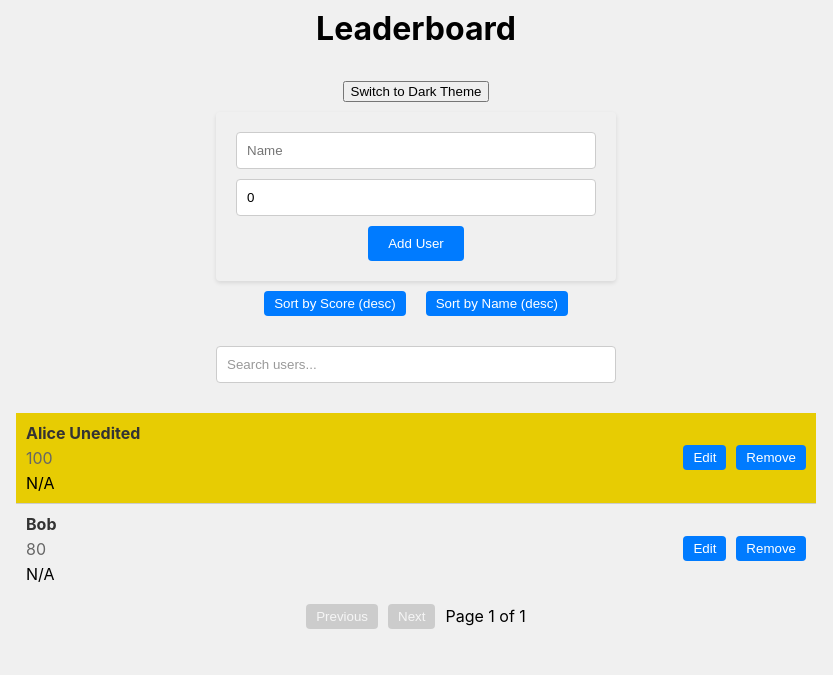
Scenario: Leaderboard Page › edits a user
(page scrolled)
Click the button with test id "edit-btn-1". click: click(705, 458)
box: top-left (683, 445), bottom-right (726, 470)
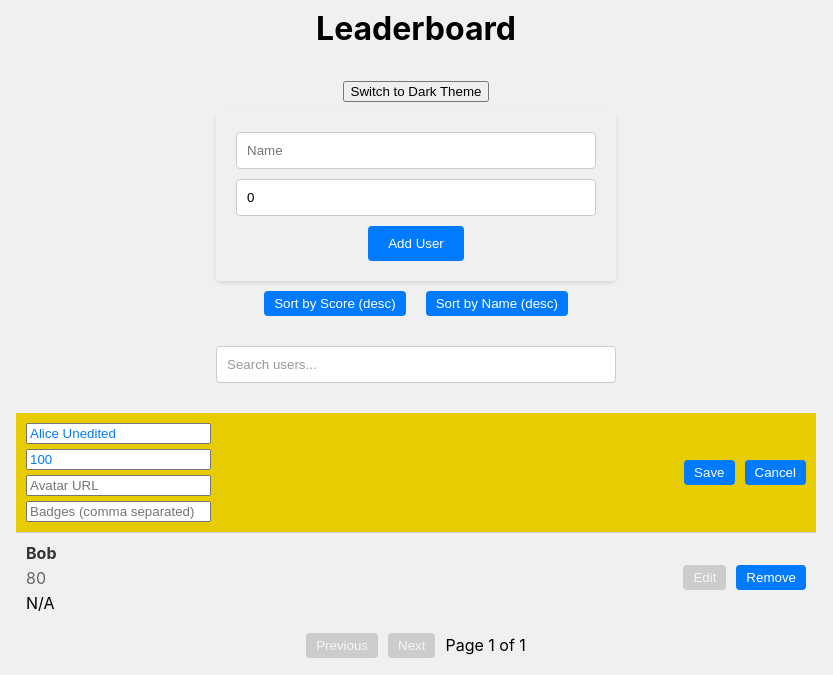
Now the field with test id "edit-user-name-1" holds "Alice Unedited"
Now the number field with test id "edit-user-score-1" holds "100", box top-left (26, 449), bottom-right (211, 470)
Replace the text in the field with test id "edit-user-name-1" with "Alice Updated". click: (118, 433)
box: top-left (26, 423), bottom-right (211, 444)
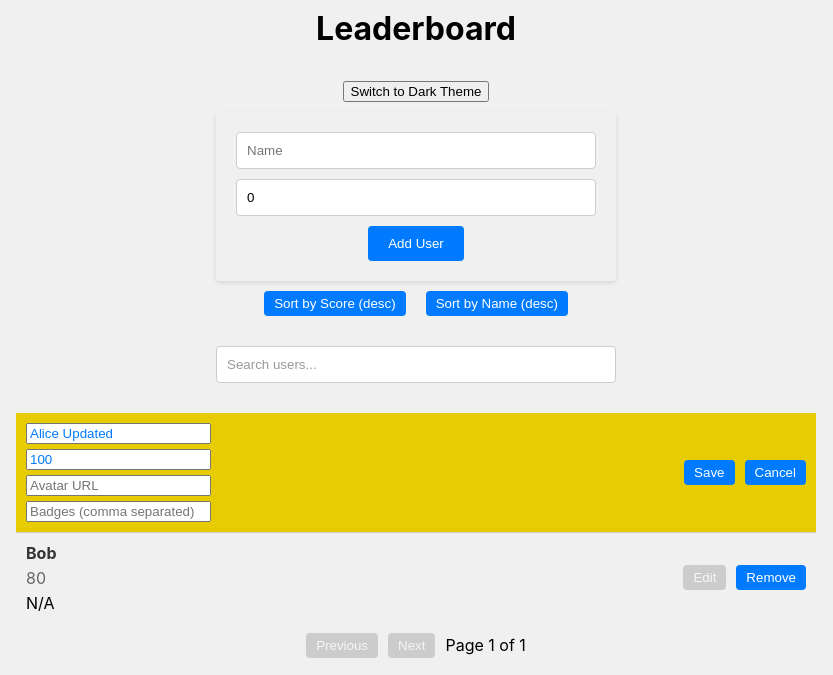
Replace the text in the number field with test id "edit-user-score-1" with "120". click: (118, 459)
box: top-left (26, 449), bottom-right (211, 470)
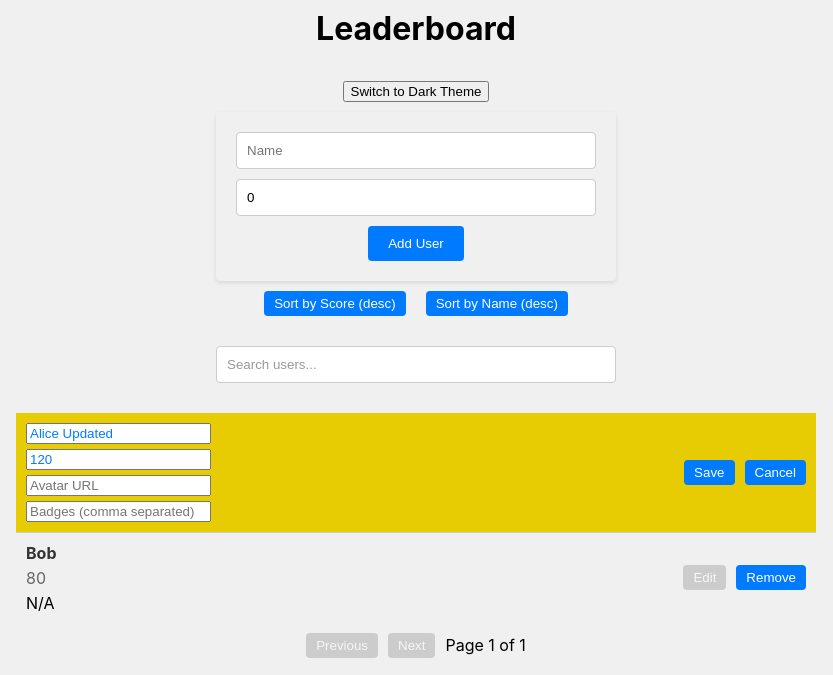
Click the button with test id "save-edit-btn-1". click: click(709, 472)
box: top-left (684, 460), bottom-right (734, 485)
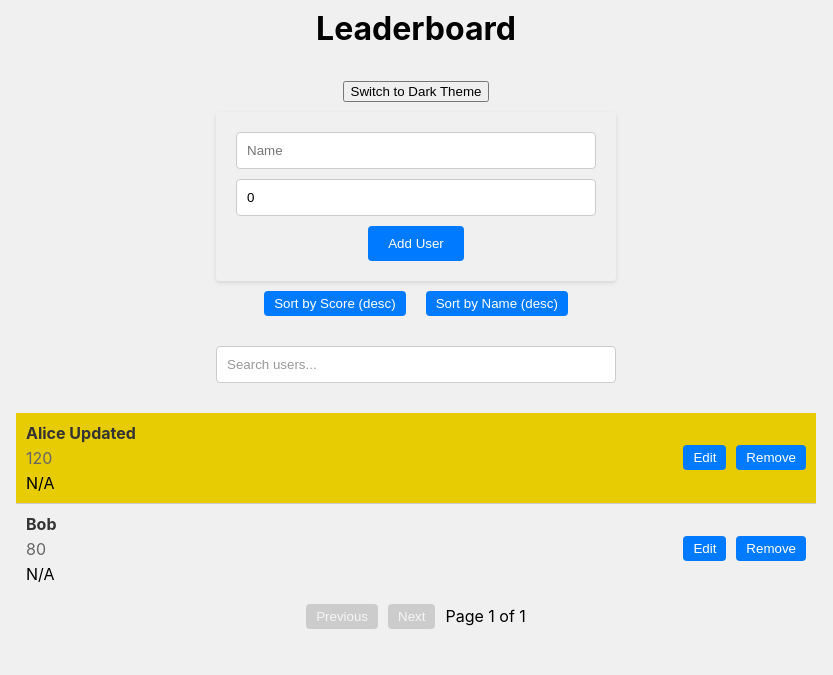
Expected: the text "Alice Unedited" is not shown
Now the text "Alice Updated" is shown, box top-left (26, 423), bottom-right (136, 443)
Now the text "120" is shown, box top-left (26, 448), bottom-right (52, 468)
